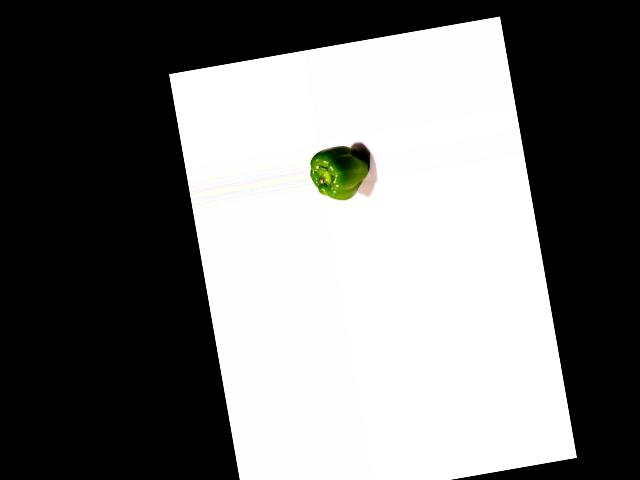bell_pepper: (306, 140, 376, 207)
